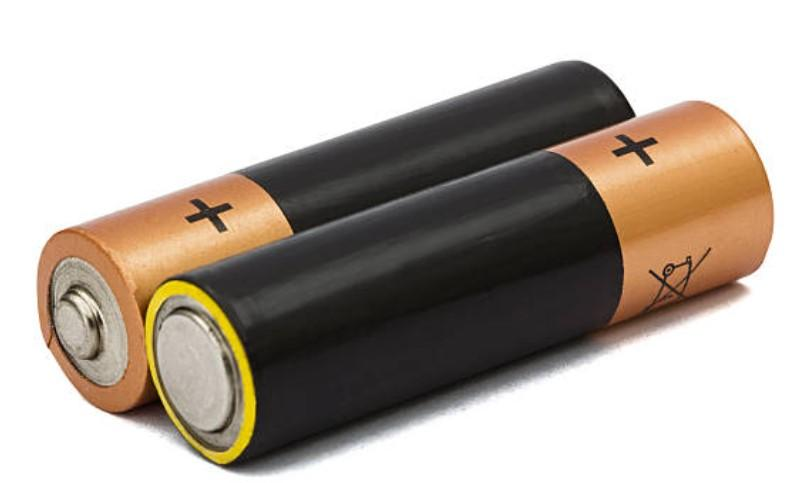Battery: (146, 101, 774, 464), (37, 61, 635, 410)
